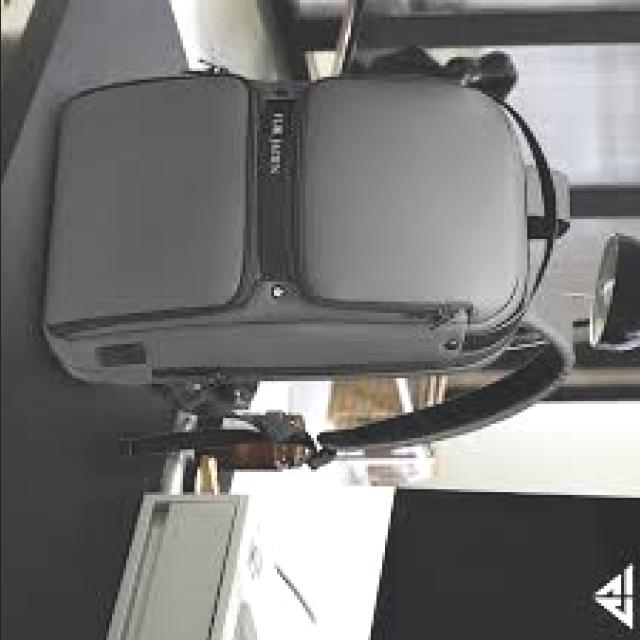backpack: (41, 47, 579, 465)
